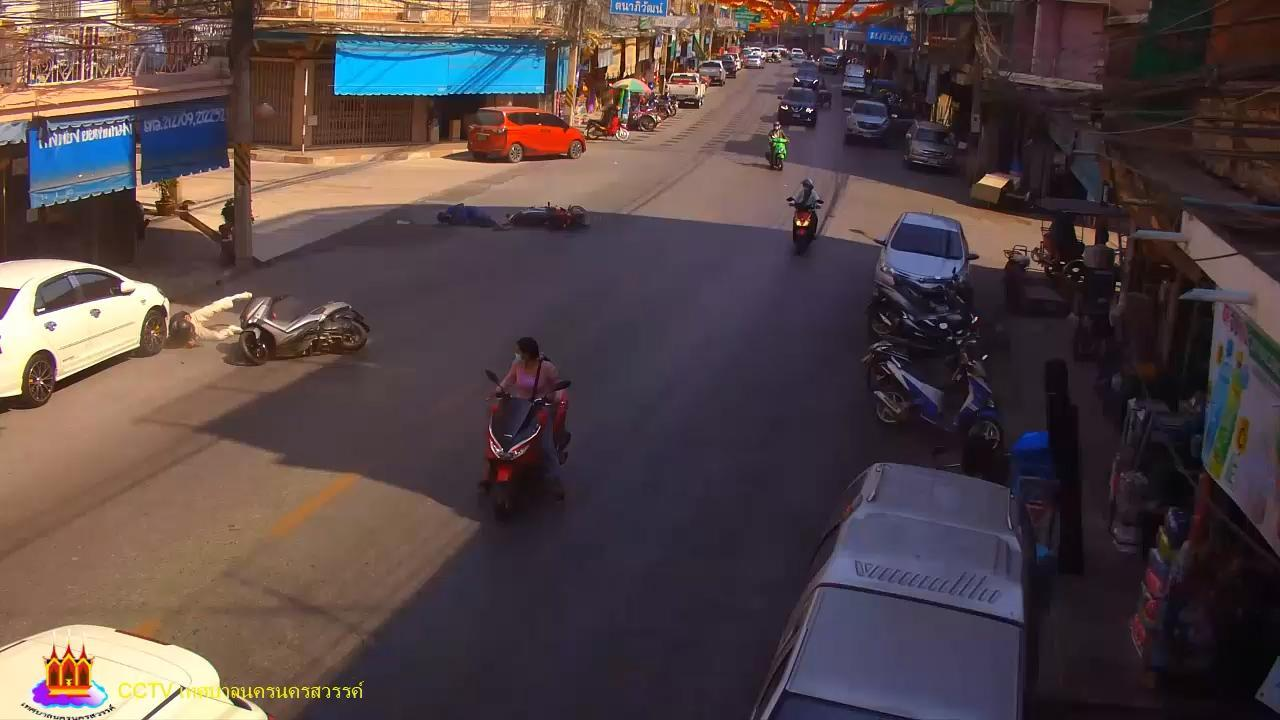accident: (171, 290, 253, 347), (436, 202, 512, 232)
